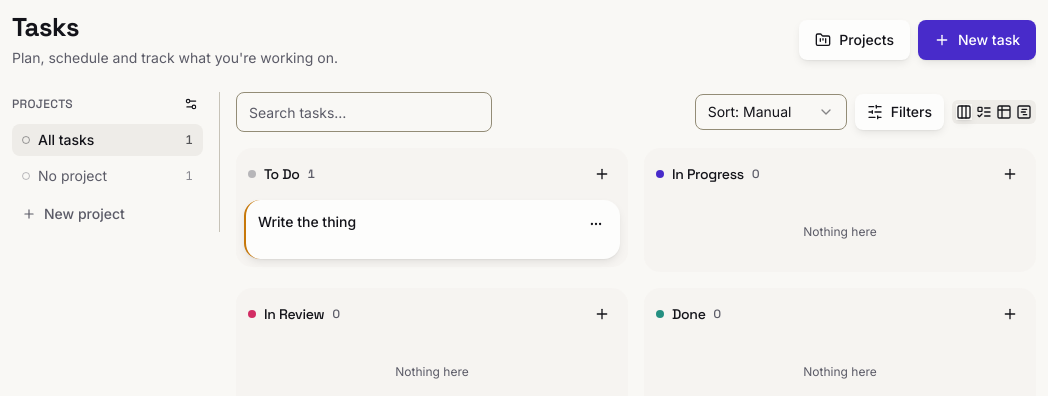
it: TasksPage › offers grouping only for the grouped views
The width and height of the screenshot is (1048, 396).
Click the radio button named "Table view".
click(1004, 112)  # box x1=996 y1=104 x2=1012 y2=120
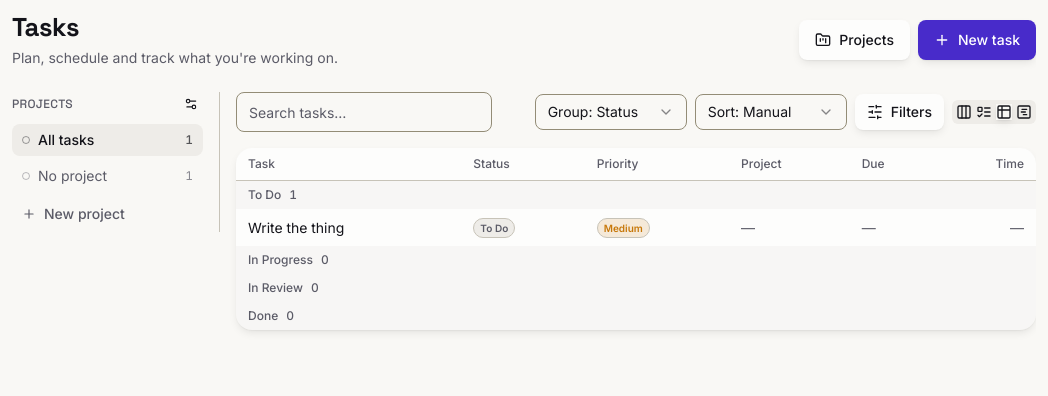
Check: the dropdown named "Group by" is shown, box x1=535 y1=94 x2=687 y2=130
